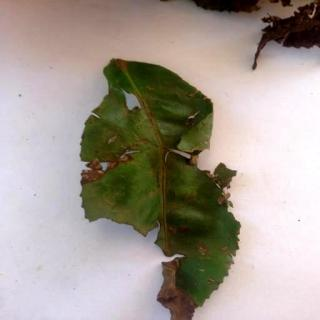Brown Blight: (82, 61, 244, 320)
